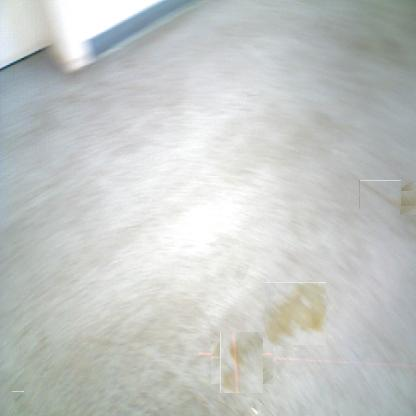liquid: (264, 282, 326, 345), (216, 336, 268, 389), (359, 180, 401, 209), (395, 185, 416, 210)
mark: (13, 391, 24, 403), (246, 90, 258, 98)
